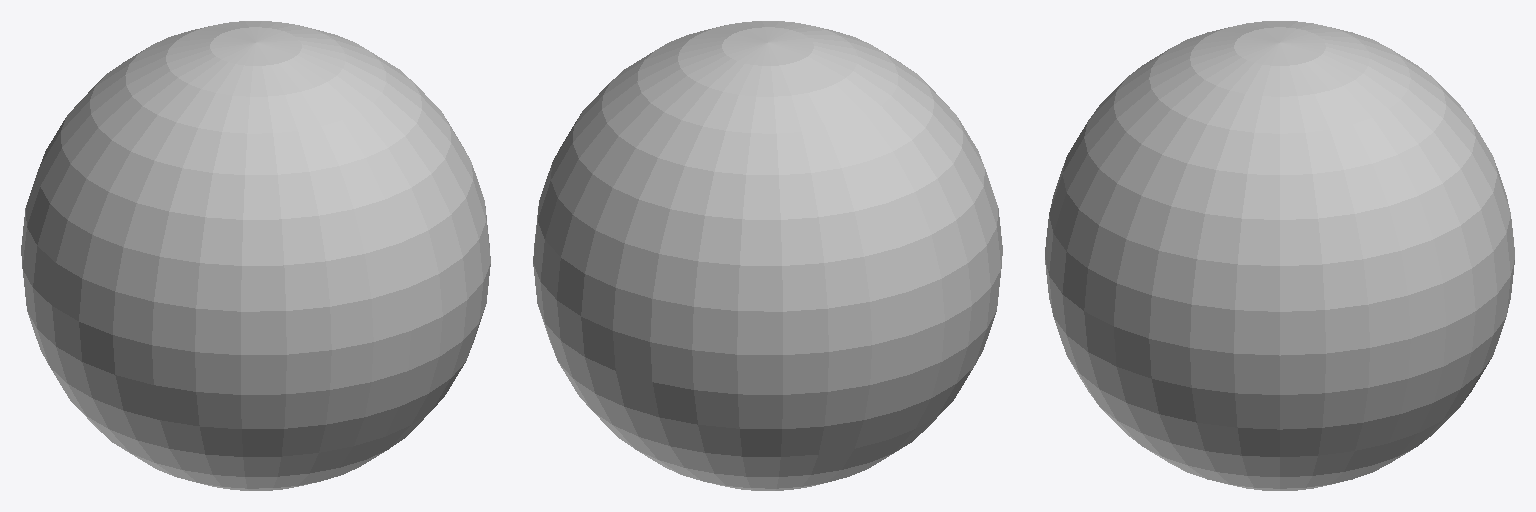
The model's file is spaceship4.obj.
The picture shows the model from 3 angles: view 1: azimuth 30°, elevation 25°; view 2: azimuth 150°, elevation 25°; view 3: azimuth 270°, elevation 25°; orthographic projection.
Parts seen in each view (by area): view 1: Sphere; view 2: Sphere; view 3: Sphere.
Boxes of the visible parts, x1,y1,x2,y2 form: Sphere: [21, 21, 490, 490]; Sphere: [533, 21, 1002, 490]; Sphere: [1045, 21, 1514, 490].
Bounding box in the file's own units: 2 × 2 × 2.